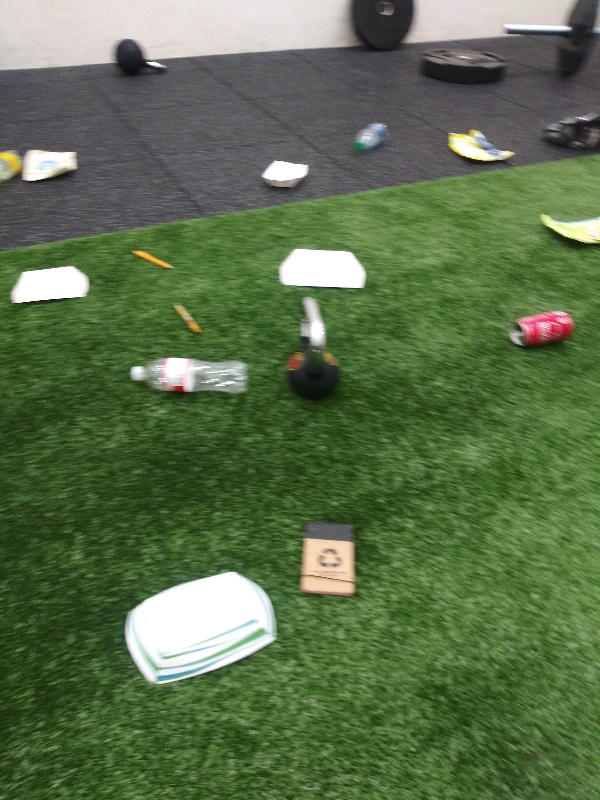bag: (444, 122, 520, 172), (535, 208, 600, 247), (22, 144, 79, 188)
bottle: (124, 354, 259, 399), (350, 118, 391, 157), (1, 145, 25, 188)
can: (508, 306, 578, 346)
plate: (120, 569, 281, 693), (273, 244, 371, 293), (8, 260, 95, 311), (255, 159, 316, 192)
